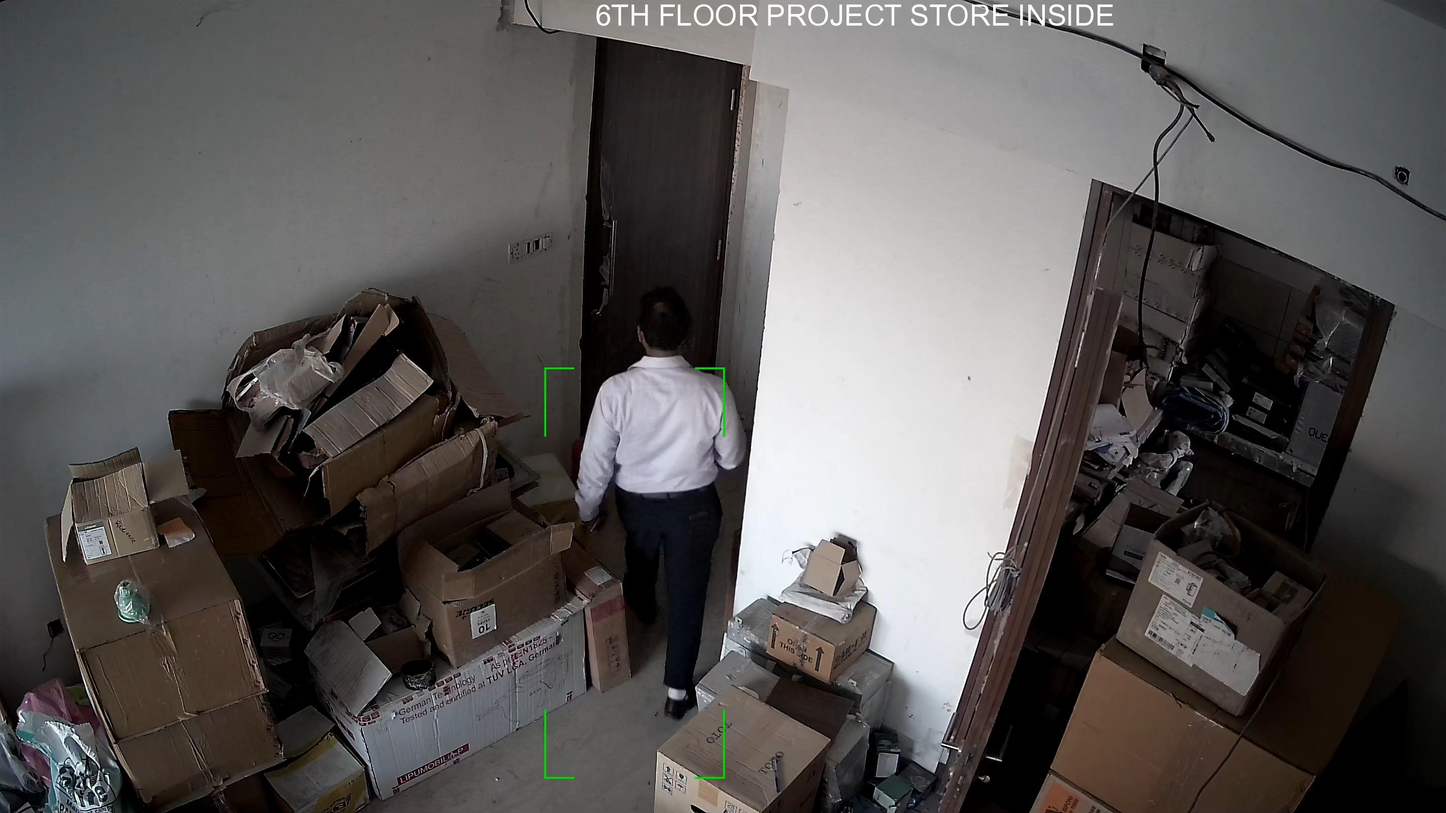Door-Close: (565, 31, 752, 455)
